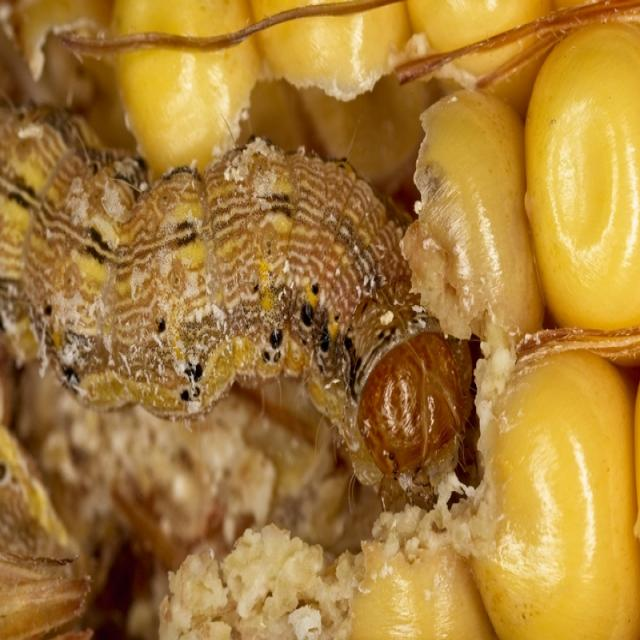Corn-earworm: (4, 95, 473, 520)
